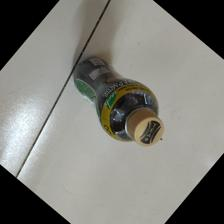Olong: (71, 54, 169, 147)
